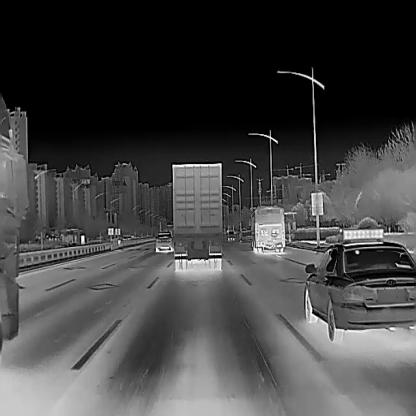bus: (251, 205, 285, 250)
car: (303, 226, 415, 340), (155, 230, 172, 250), (227, 230, 235, 240)
truck: (0, 93, 26, 350), (172, 163, 221, 268)
